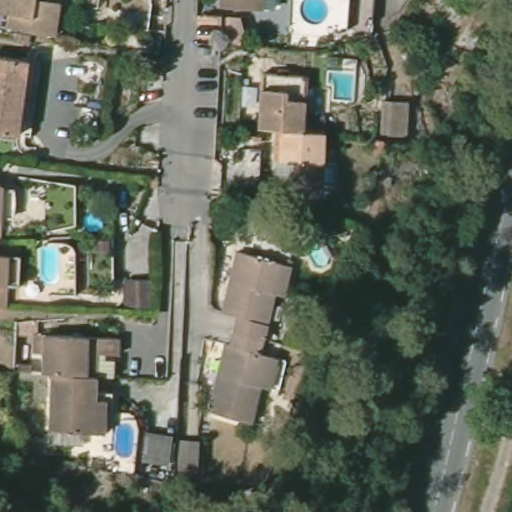pool: (107, 415, 143, 458), (321, 69, 359, 102), (38, 245, 68, 284), (294, 1, 332, 29), (80, 207, 111, 234), (303, 240, 334, 267)
